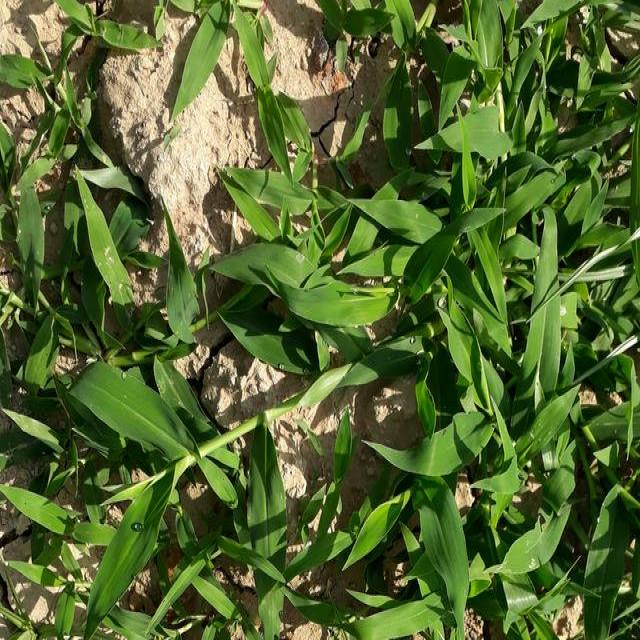weed: (413, 0, 640, 640), (10, 61, 121, 640), (128, 400, 293, 637), (236, 186, 402, 356), (184, 7, 263, 100)
